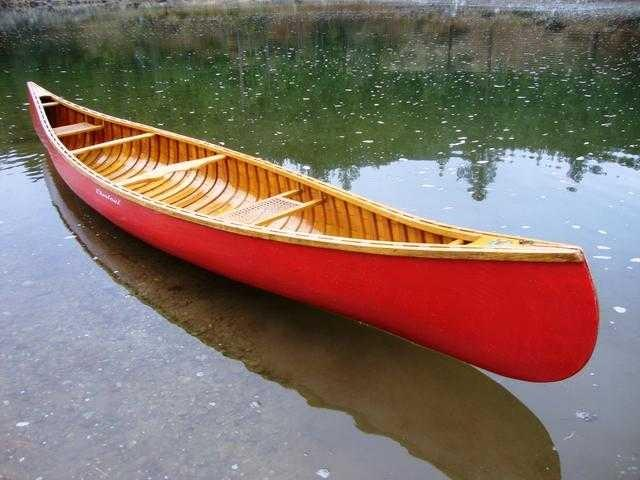kayak: (24, 87, 608, 387)
